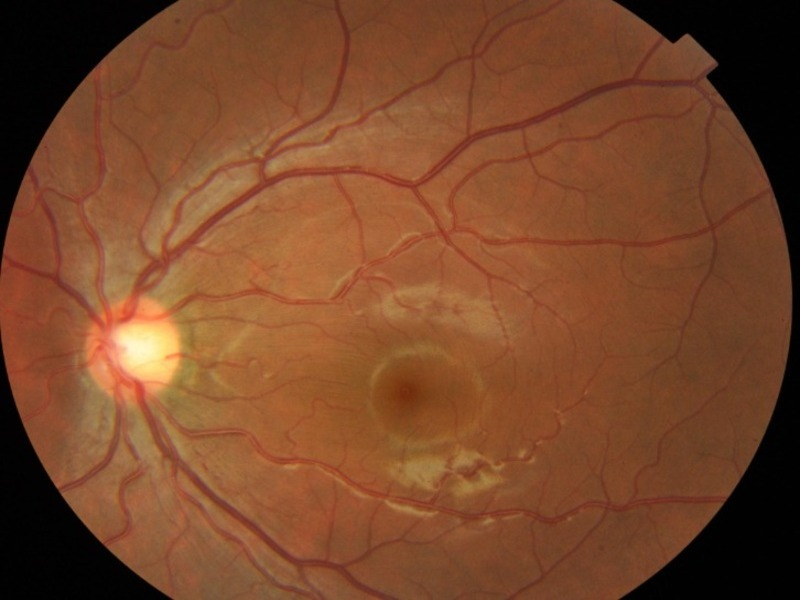Cup Disc: (83, 297, 180, 401)
Optic Cup: (113, 328, 156, 366)
